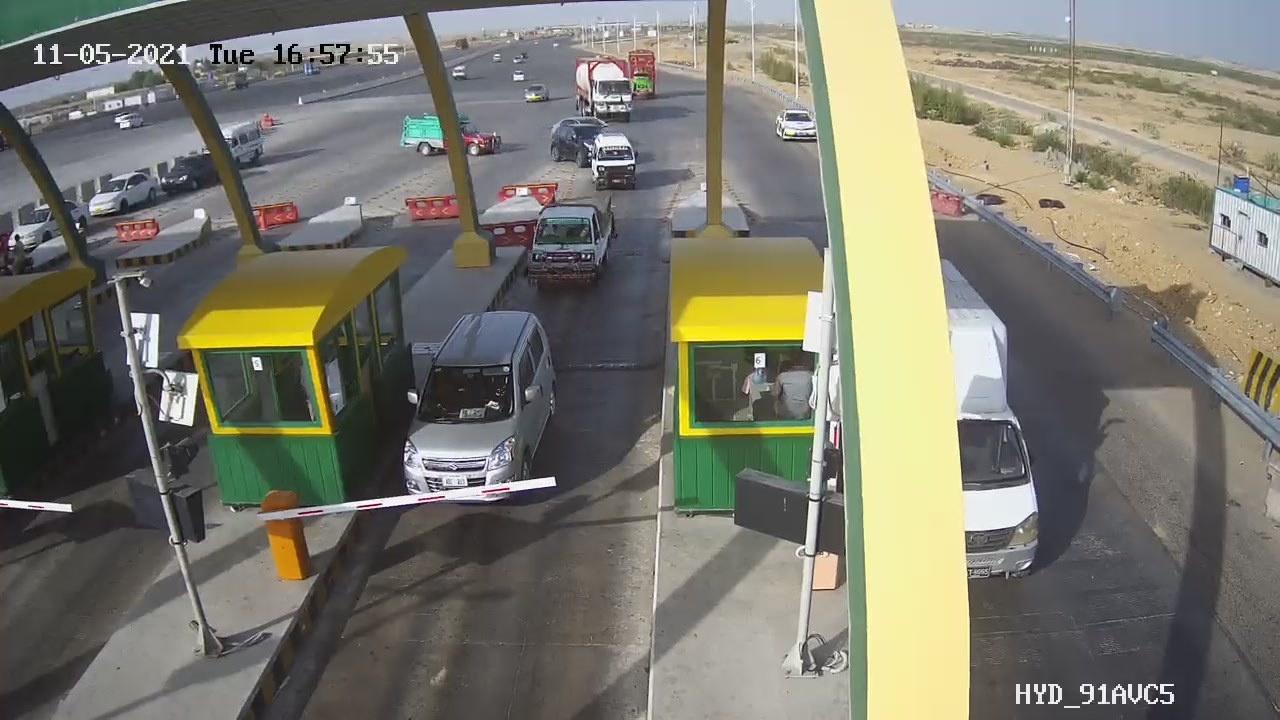F1: (379, 293, 575, 532)
